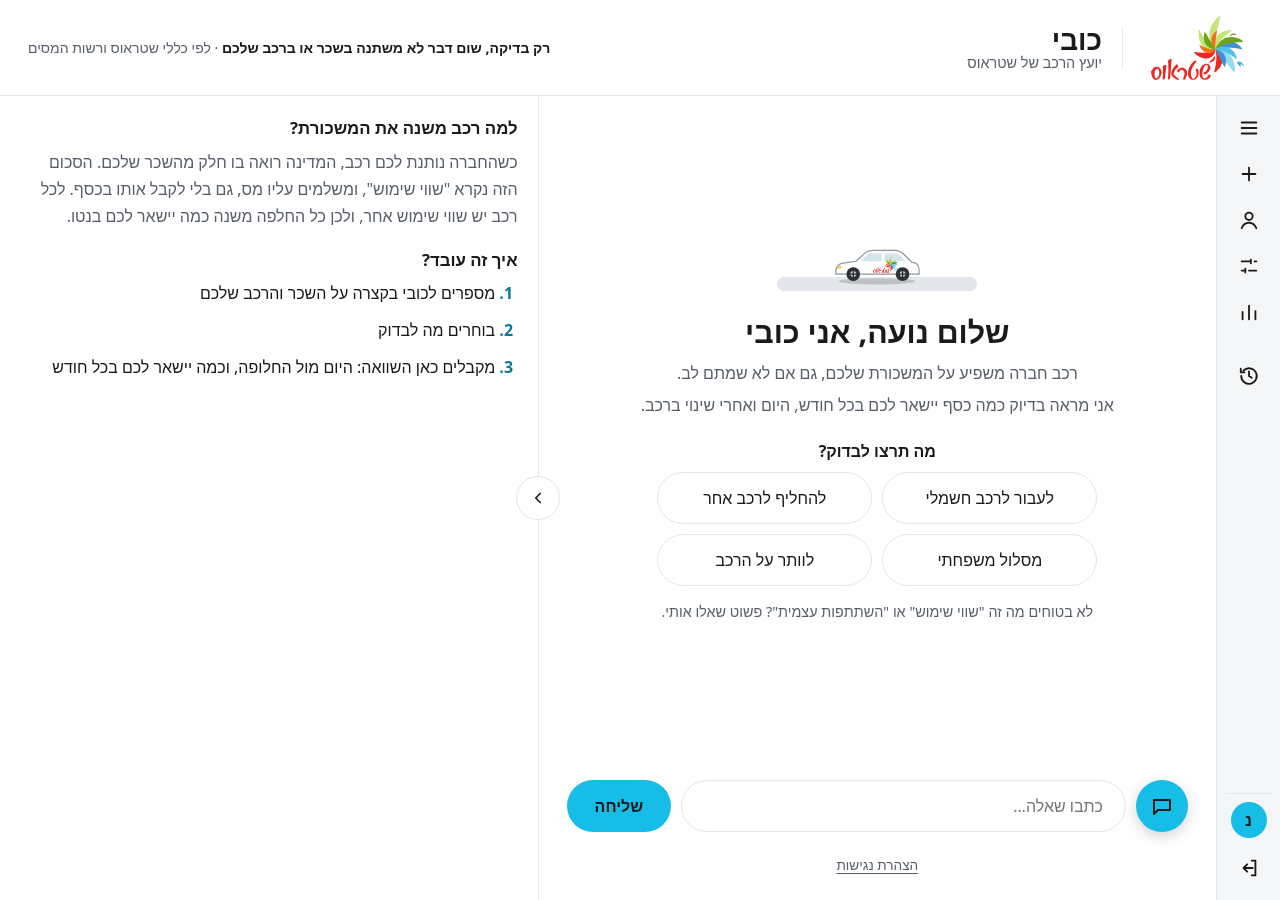
the window › Esc closes it and the focus goes back to "התאמה אישית"
Click the 3rd button named "התאמה אישית".
click(1248, 266)  # box [1225,244,1272,288]
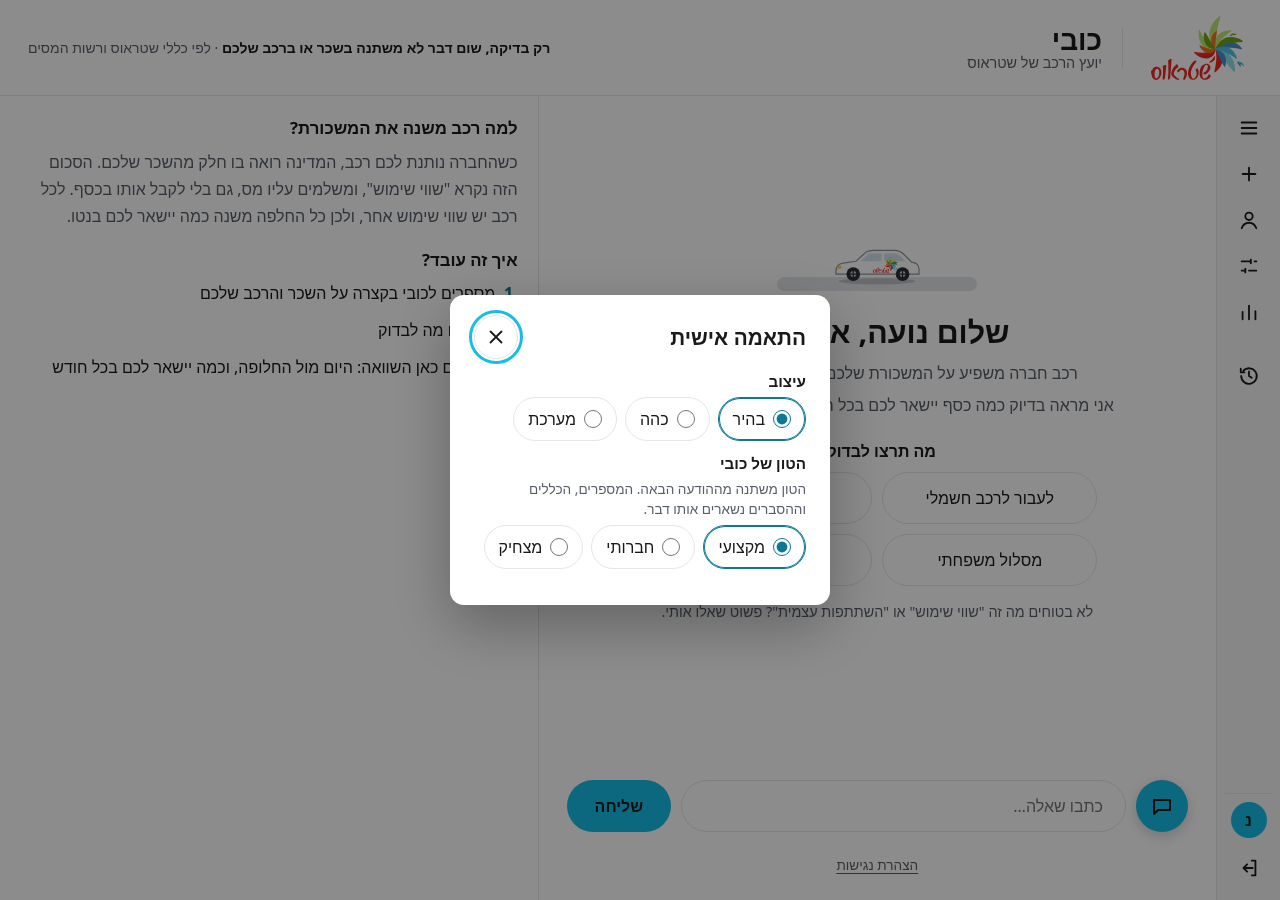
Press Escape
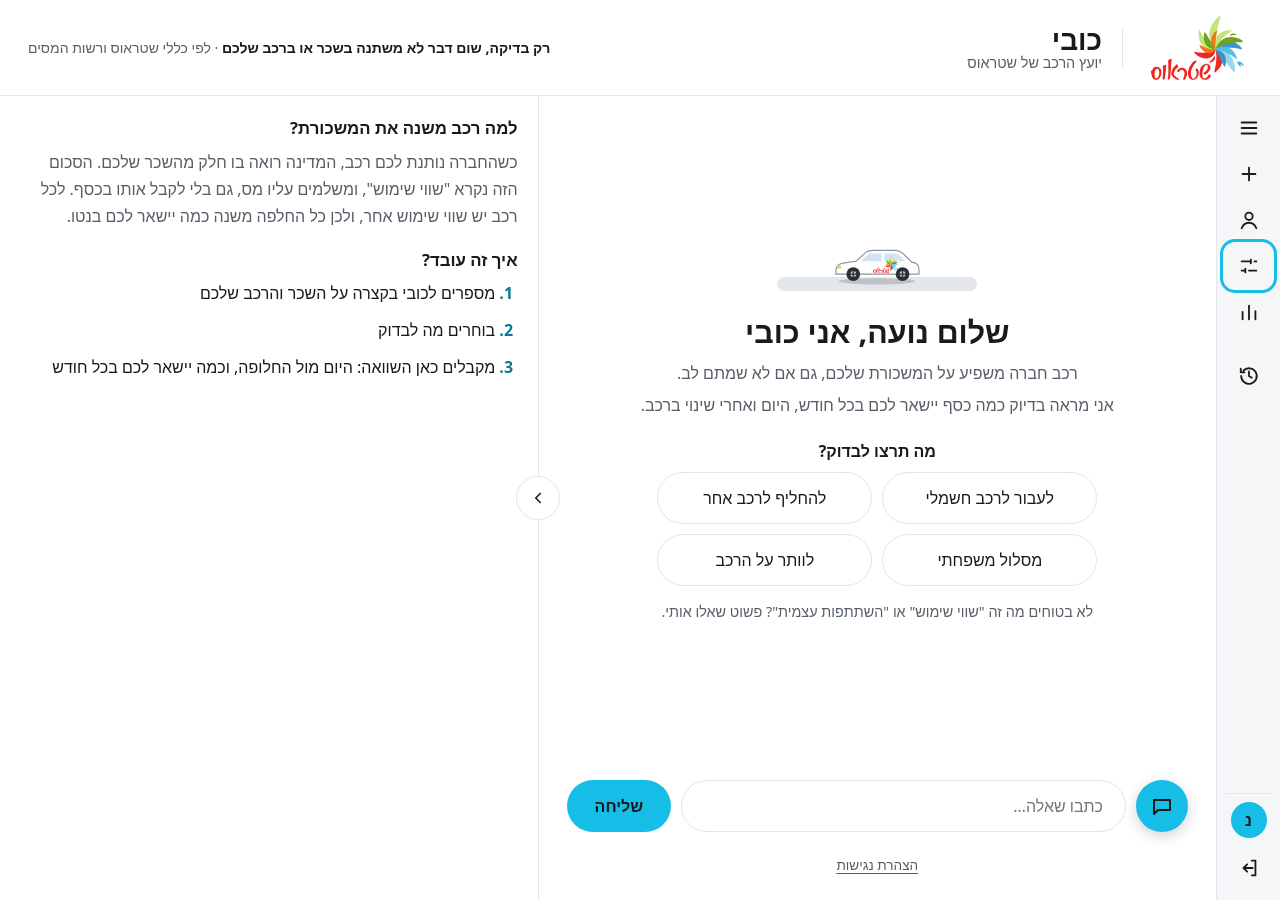
Check: the dialog is gone
